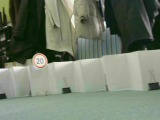speed_20: (30, 52, 48, 69)
